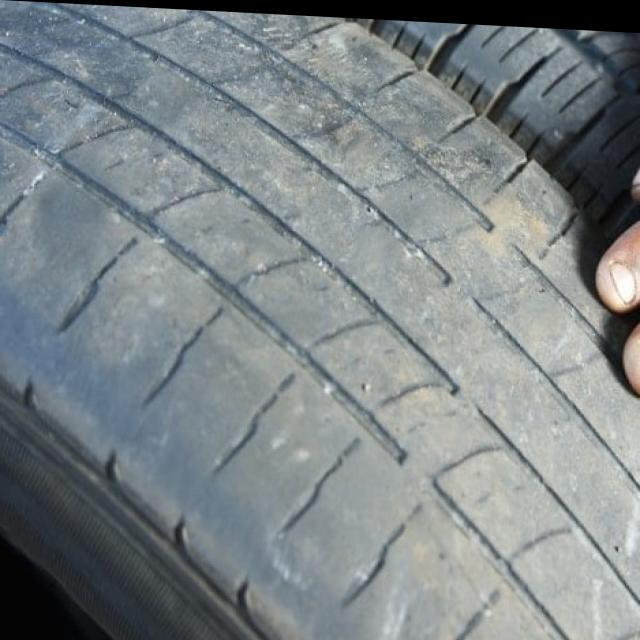Flat spots: (0, 34, 587, 639)
